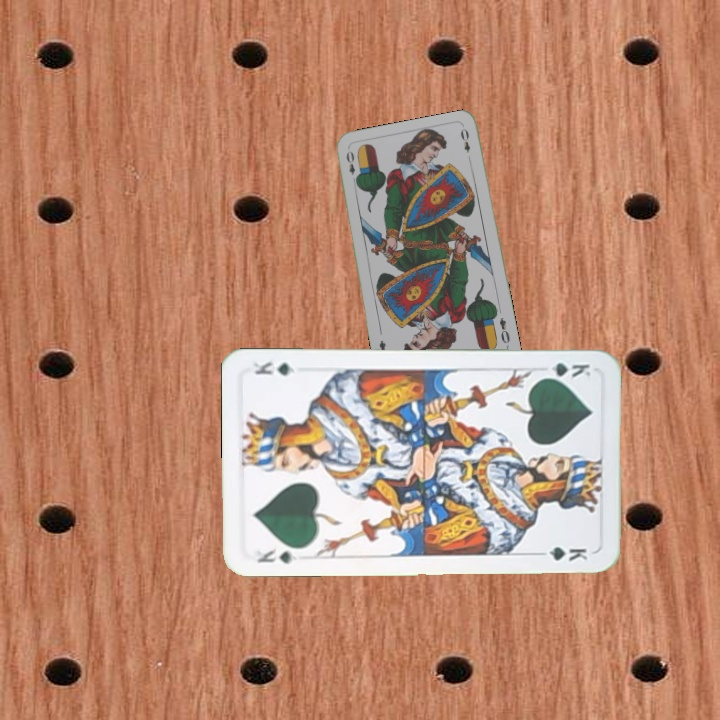EO: (342, 147, 361, 187), (495, 314, 512, 349)
GK: (536, 359, 593, 381), (253, 544, 300, 566)
